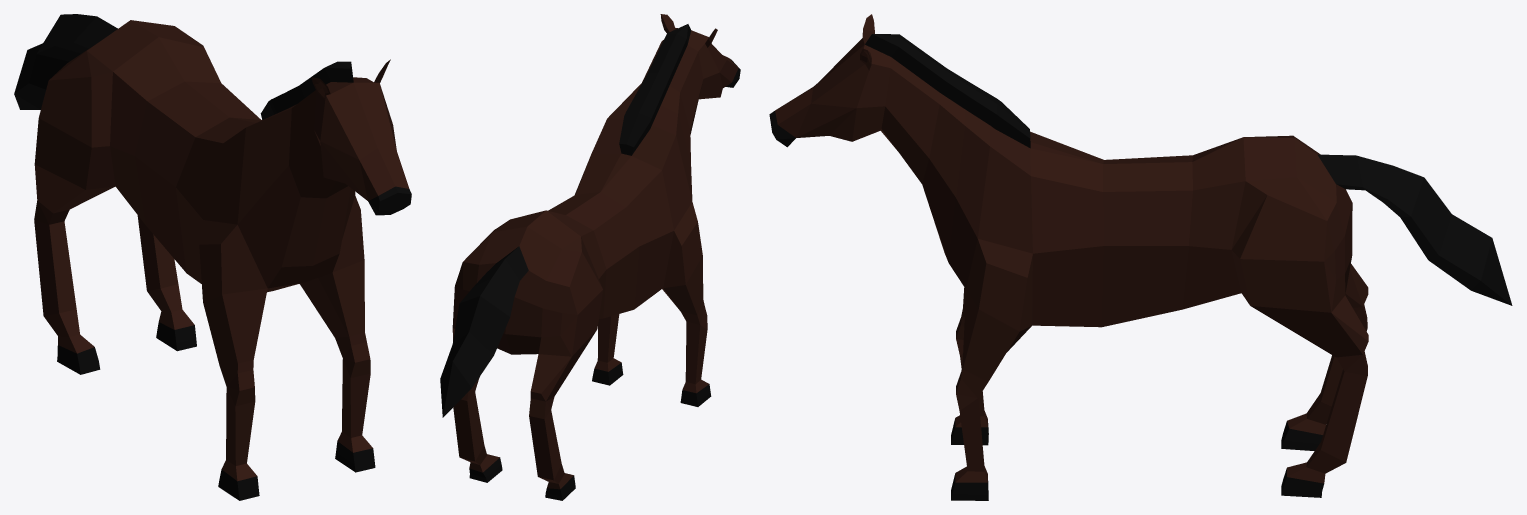
Rendered from Horse_000002.obj.
3 renders of one model, left to right at view 1: azimuth 30°, elevation 25°; view 2: azimuth 150°, elevation 25°; view 3: azimuth 270°, elevation 25°, orthographic. The views are drawn at different scales.
Parts seen in each view (by area): view 1: Horse_Cylinder; view 2: Horse_Cylinder; view 3: Horse_Cylinder.
Boxes of the visible parts, x1,y1,x2,y2 form: Horse_Cylinder: (14,14,411,500); Horse_Cylinder: (440,14,740,500); Horse_Cylinder: (769,14,1512,500).
Bounding box in the file's own units: 2.56 × 6.86 × 10.51.
